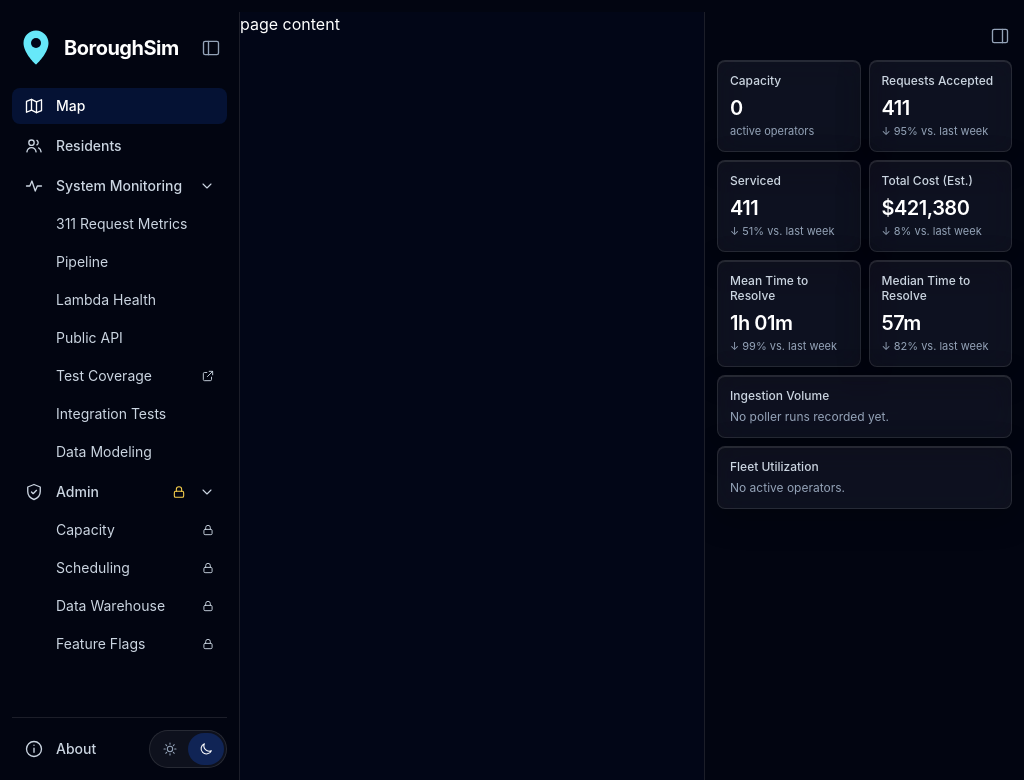
Test: WorkspaceShell — secondary workspace follows the menu selection › hides on a monitoring item, stays hidden across section items, and returns on Map
Click the link "Pipeline": (82, 262) [56,253,108,270]
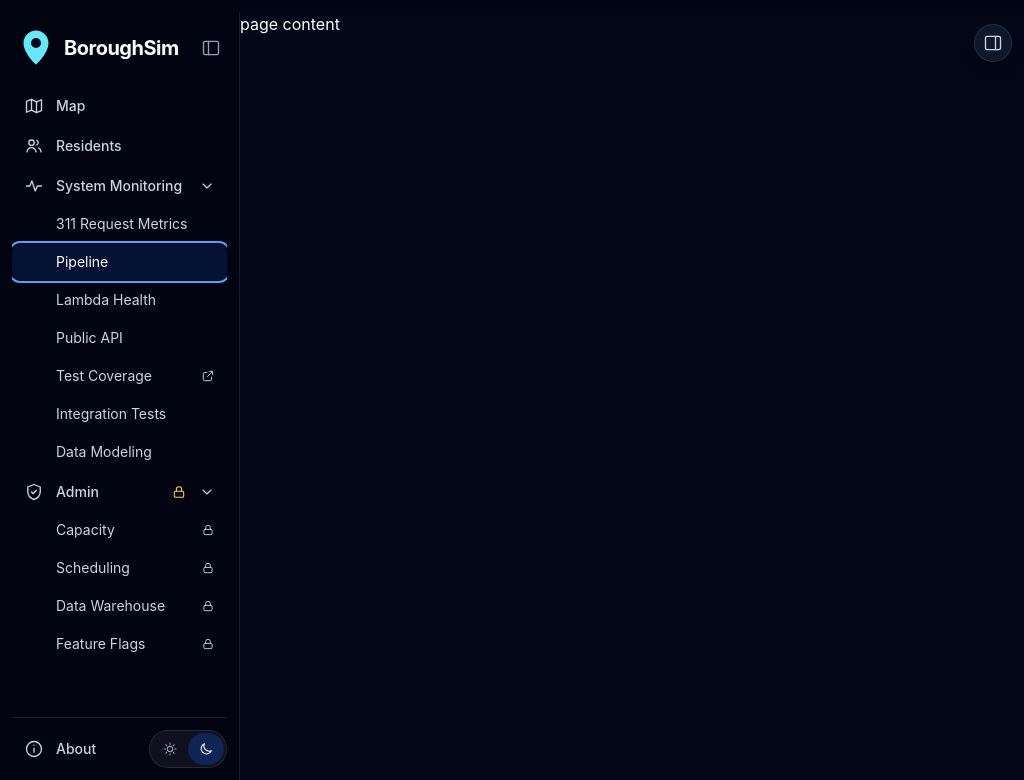
Click the button named "Show secondary panel": (993, 43) [974,24,1012,62]
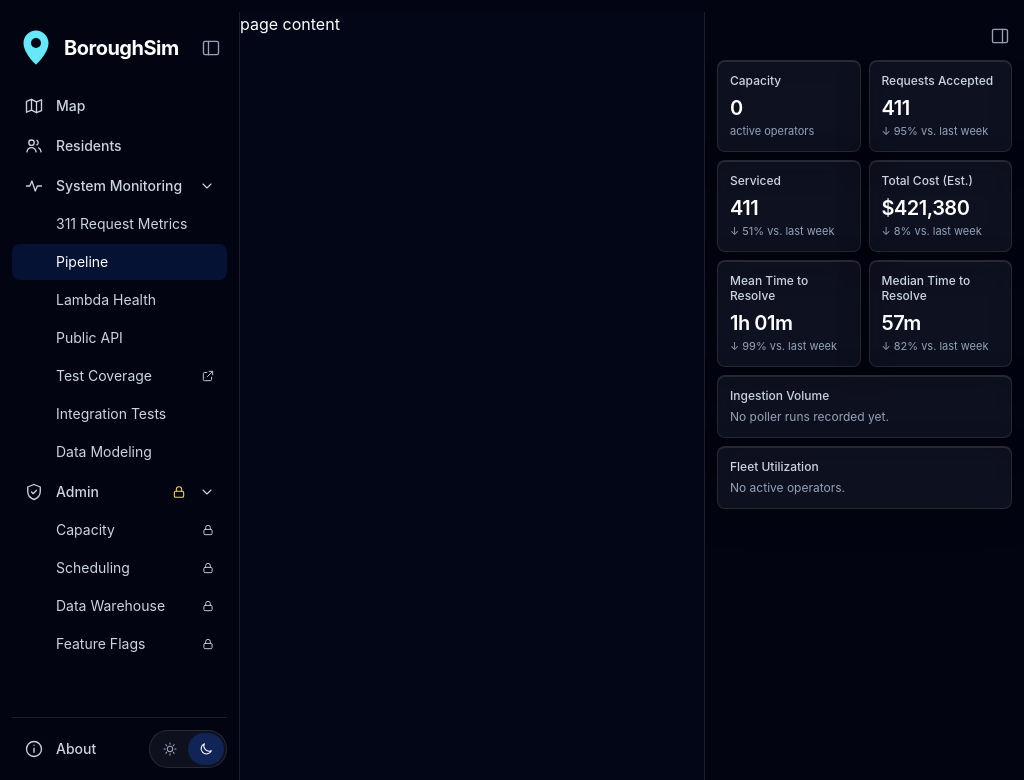
Expected: the element named "Secondary workspace" is shown, [704,12,1023,779]
Click the link "Capacity": (144, 534) [55,521,233,548]
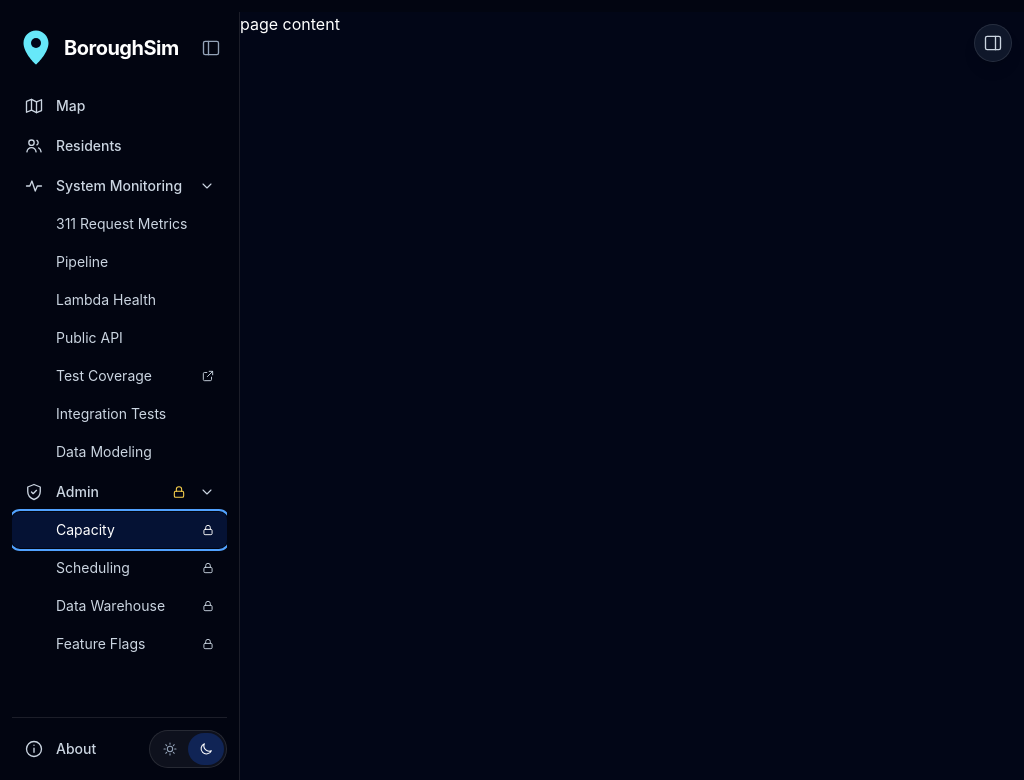
Click the link "Map": (55, 106) [24,96,85,116]
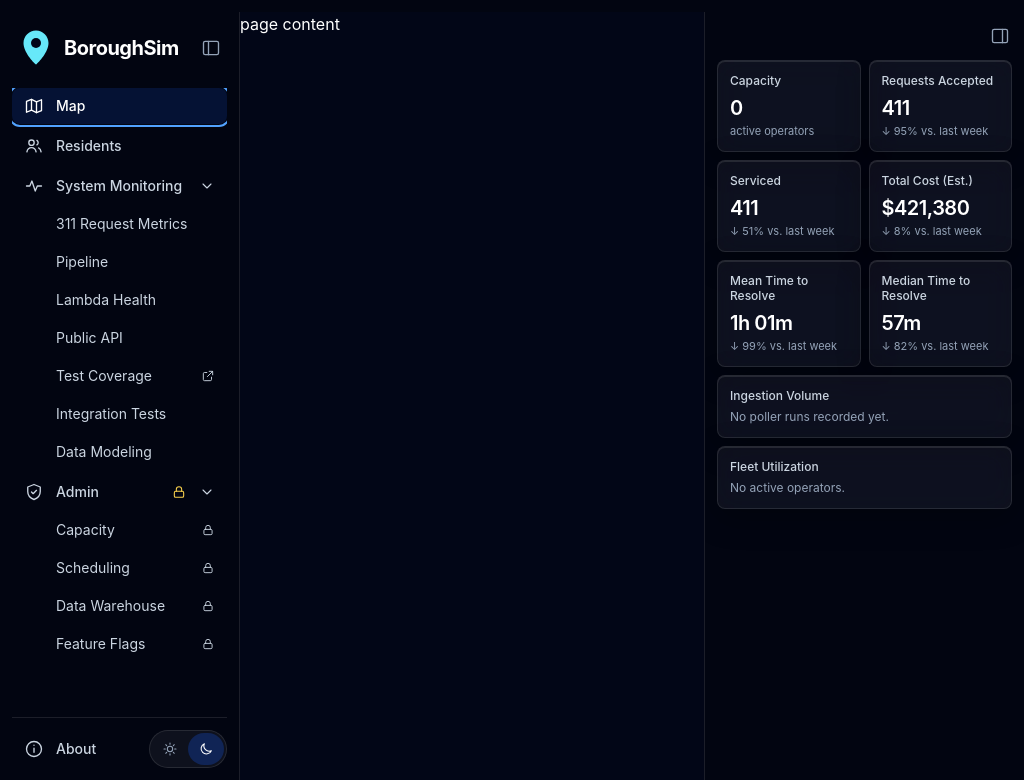
Expected: the element named "Secondary workspace" is shown, [704,12,1023,779]
